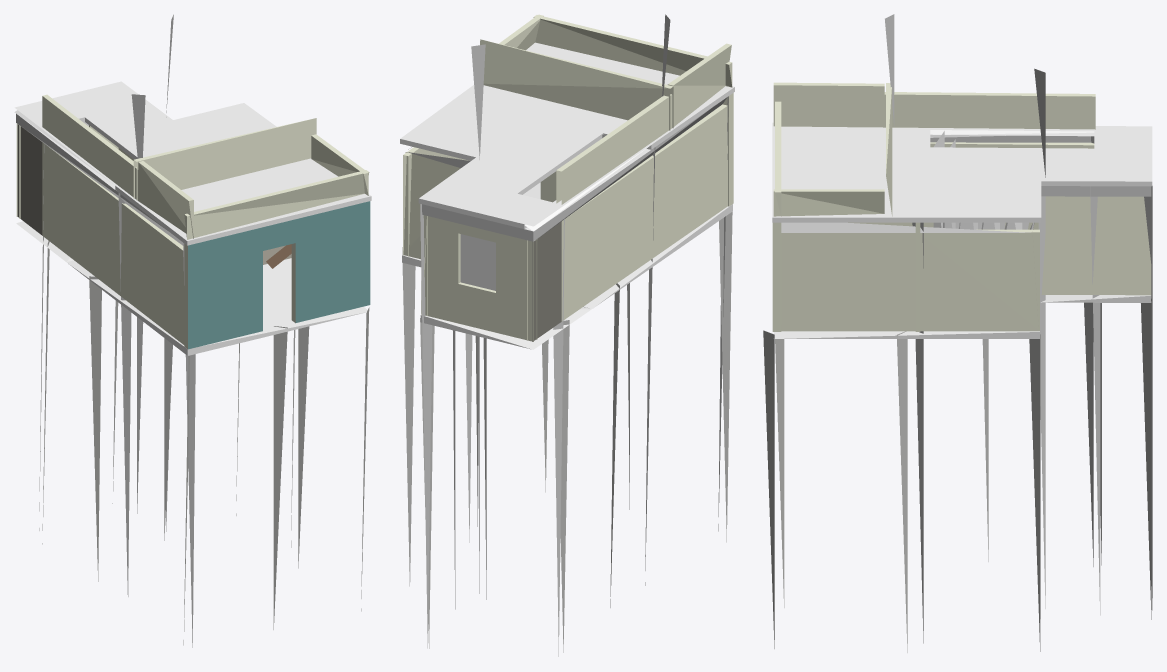
3 renders of one model, left to right at view 1: azimuth 30°, elevation 25°; view 2: azimuth 150°, elevation 25°; view 3: azimuth 270°, elevation 25°, orthographic. The views are drawn at different scales.
Parts seen in each view (by area): view 1: F_32; view 2: F_32; view 3: F_32.
Part boxes in pixels (box(x1,y1,x2,y2)): F_32: box(14, 14, 371, 647); F_32: box(400, 14, 734, 656); F_32: box(763, 14, 1152, 652).
Size of the model in its own units: 5.06 by 13.78 by 8.77.
